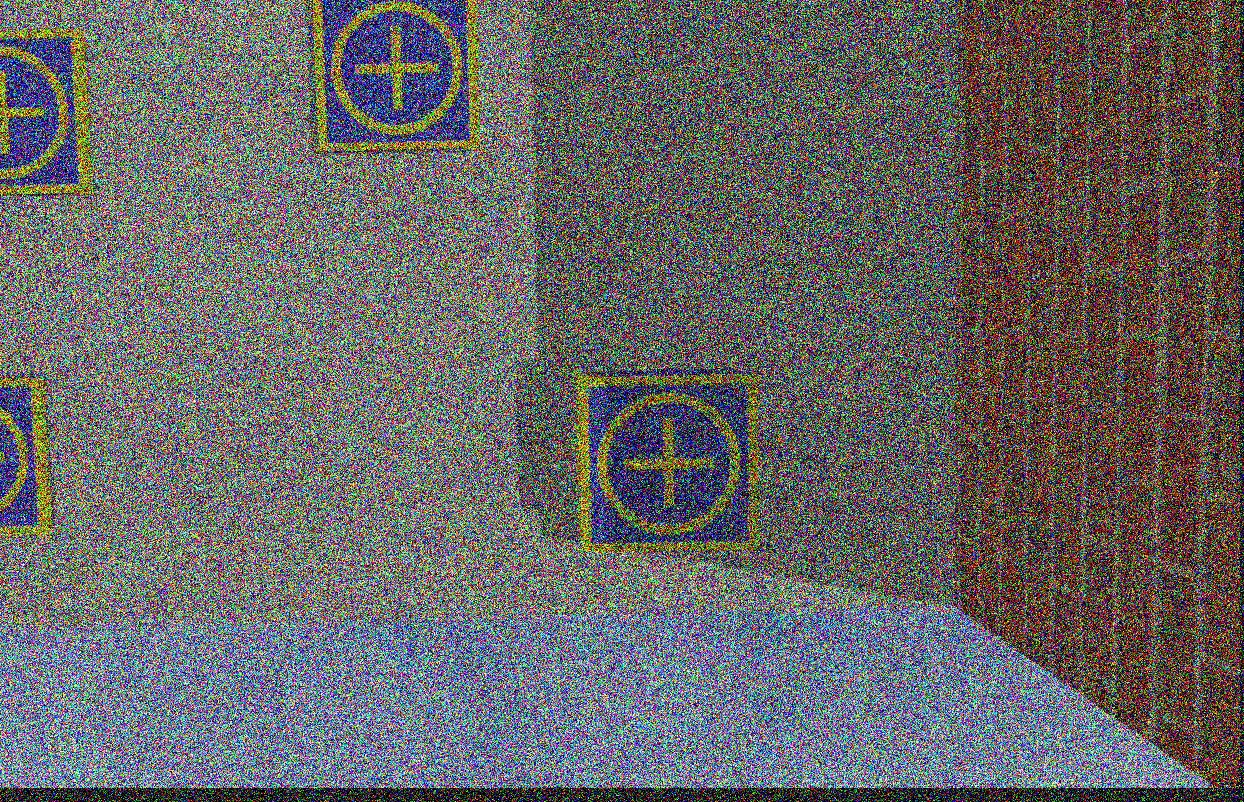small_base: (574, 373, 761, 555), (310, 1, 480, 150), (0, 30, 95, 198), (0, 376, 54, 540)
